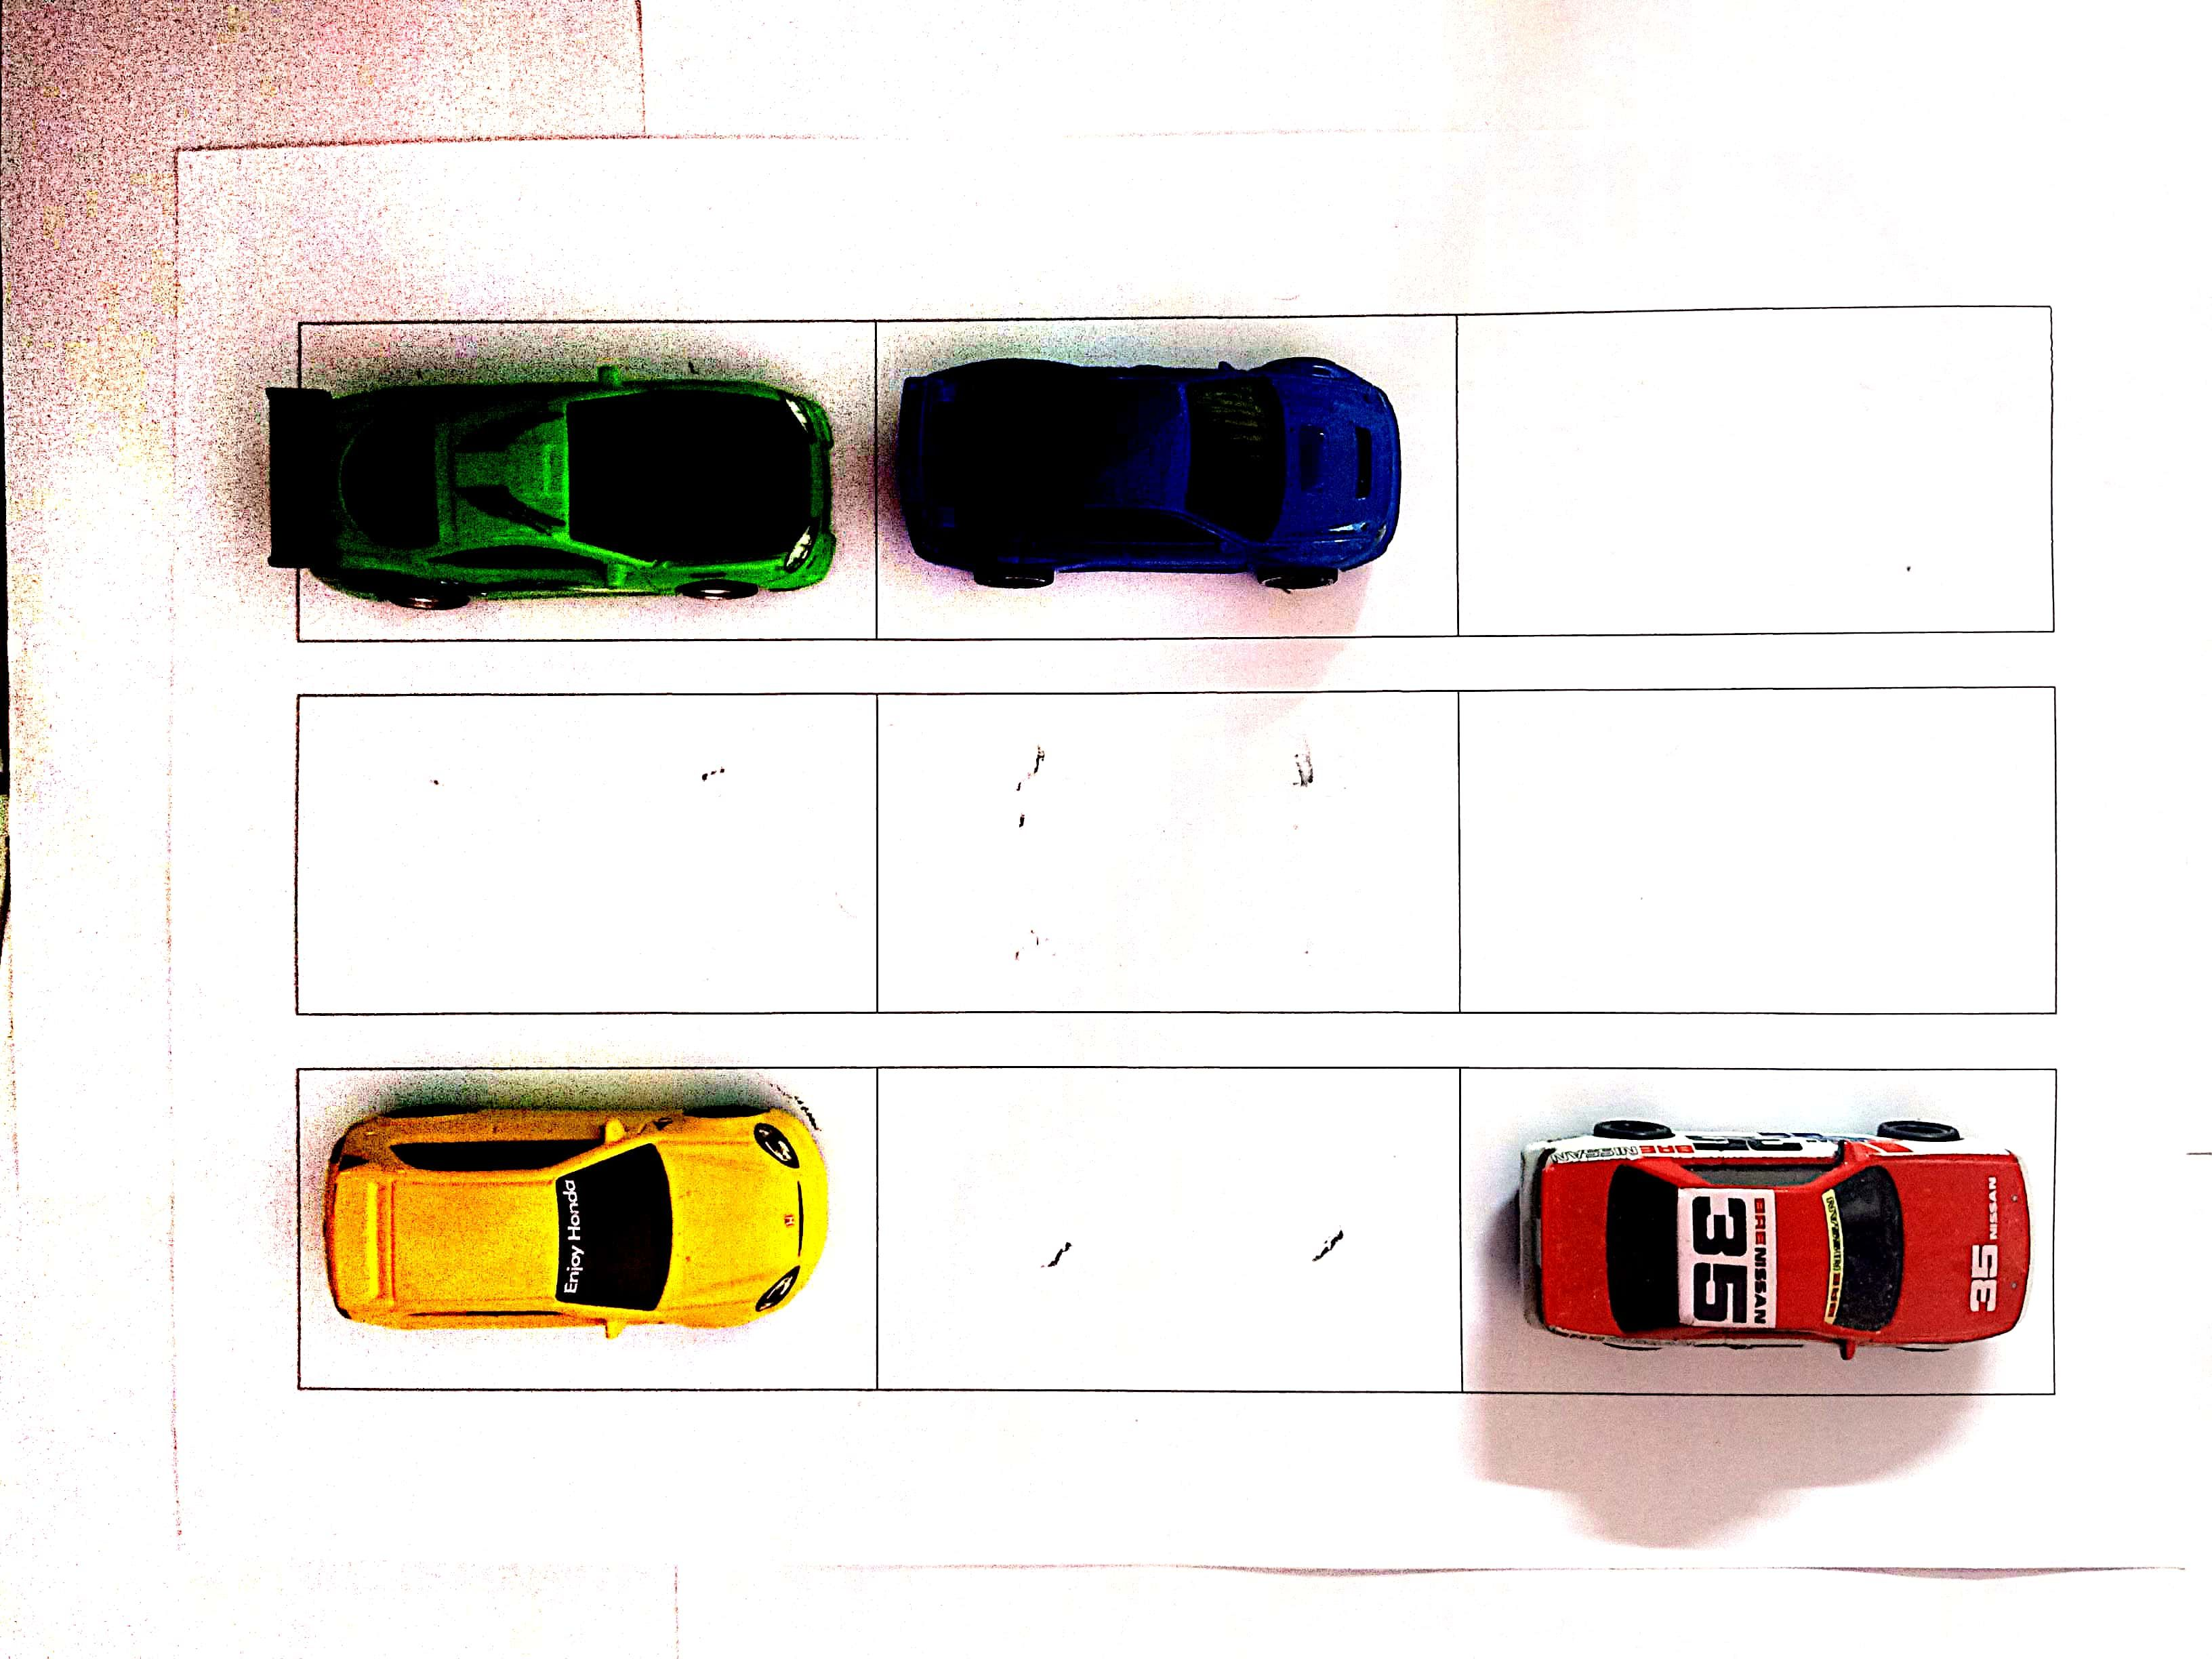Busy: (1458, 1073, 2059, 1392), (871, 314, 1454, 636), (296, 1073, 871, 1396), (300, 326, 871, 633)
Free: (1454, 692, 2050, 1014), (1454, 310, 2047, 631), (296, 697, 880, 1014), (878, 697, 1458, 1014), (871, 1073, 1458, 1384)
